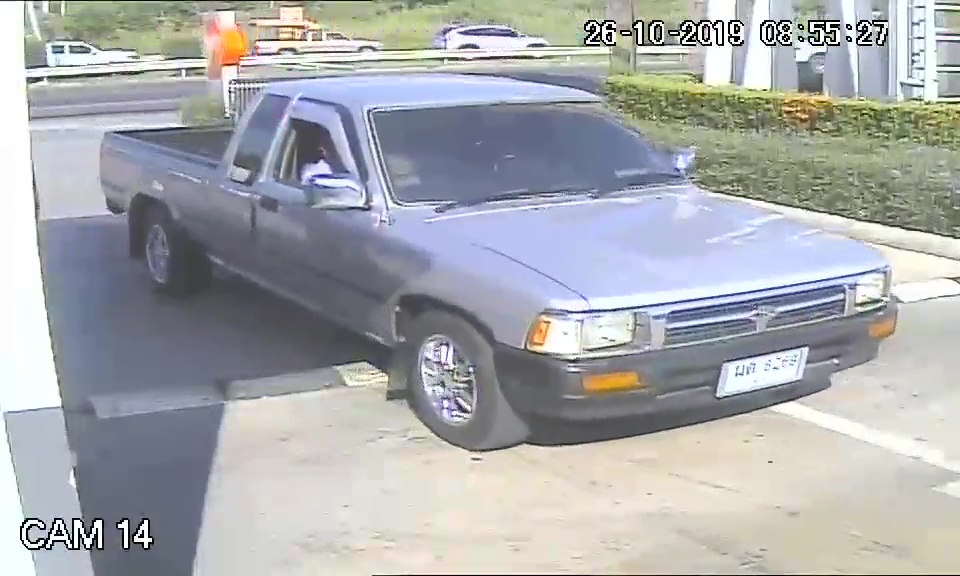pickup: (92, 67, 903, 453)
